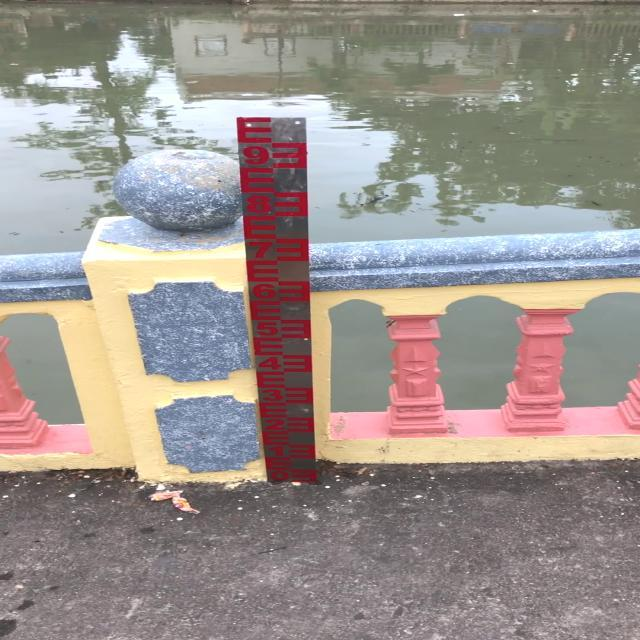ruler: (226, 107, 332, 497)
value: (238, 141, 274, 171), (242, 190, 277, 218), (245, 236, 278, 263), (248, 279, 281, 303), (250, 317, 282, 340), (258, 384, 288, 407), (256, 352, 286, 374), (262, 414, 289, 435), (264, 442, 289, 460), (268, 468, 291, 484)
